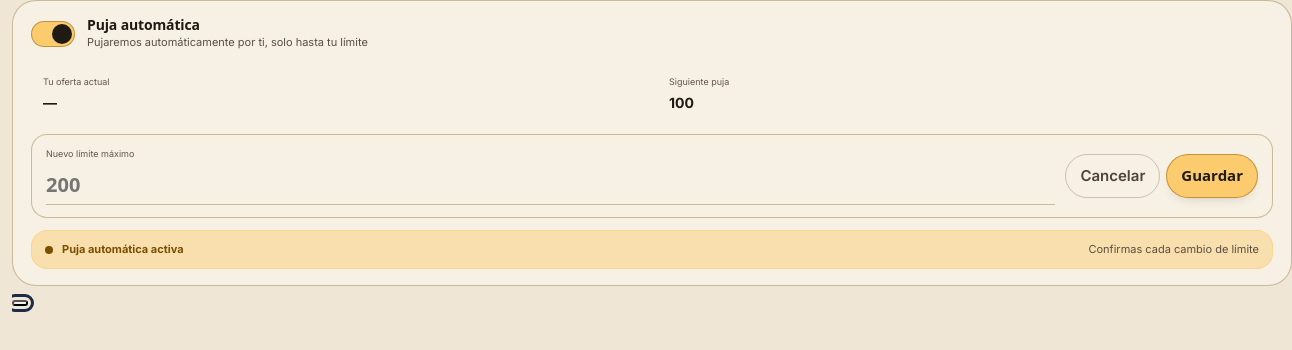
keeps focus with the user and validates the minimum before saving an automatic bid
Later steps or results of the test are not shown.
Type "50" into the field labelled "Nuevo límite máximo" at [551, 185], box [46, 165, 1055, 205]
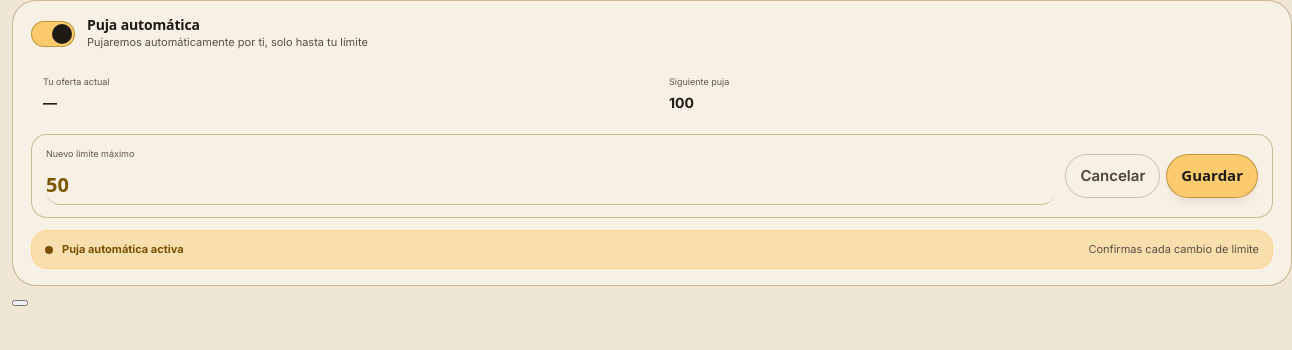
Click the button "Guardar" at [1212, 176], box [1166, 154, 1258, 198]
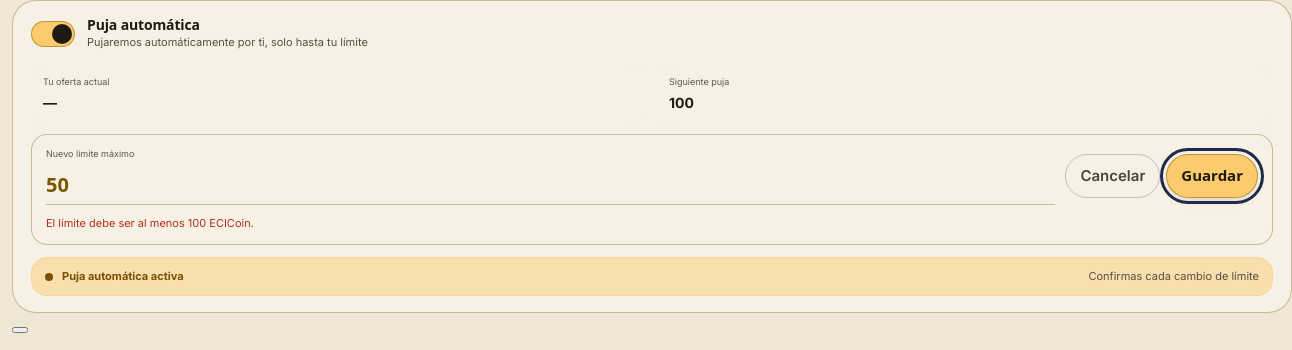
Result: the message shows "El límite debe ser al menos" at [46, 216, 254, 230]
